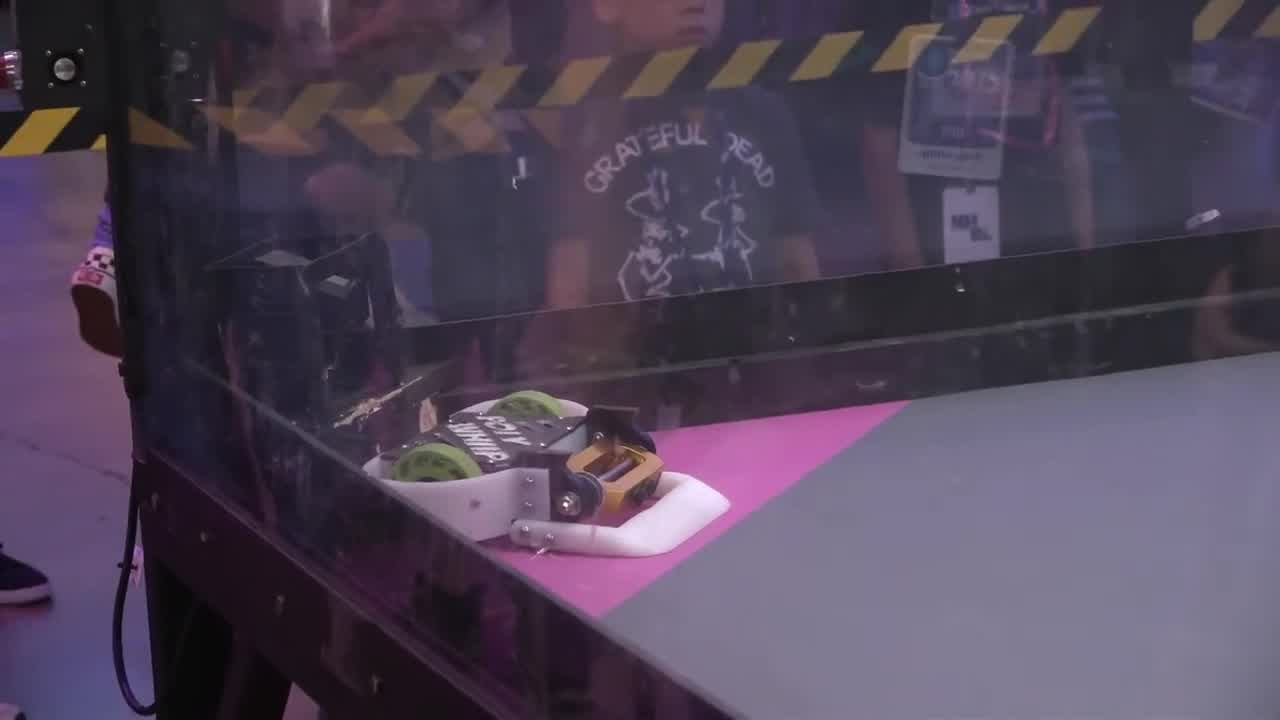combatbot: (362, 389, 730, 558)
